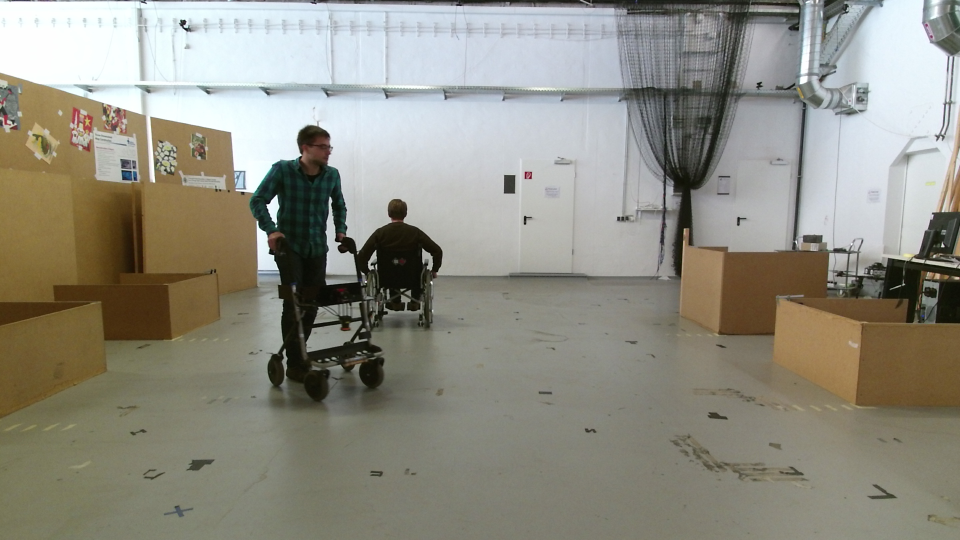wheelchair: (350, 195, 445, 335)
